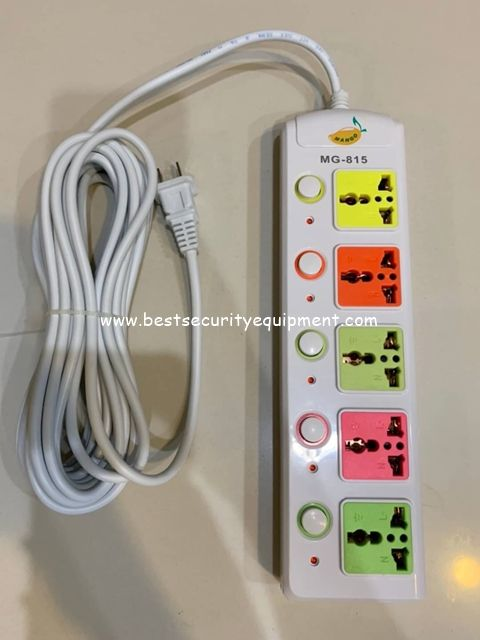Three_eye_plug: (257, 88, 439, 614)
